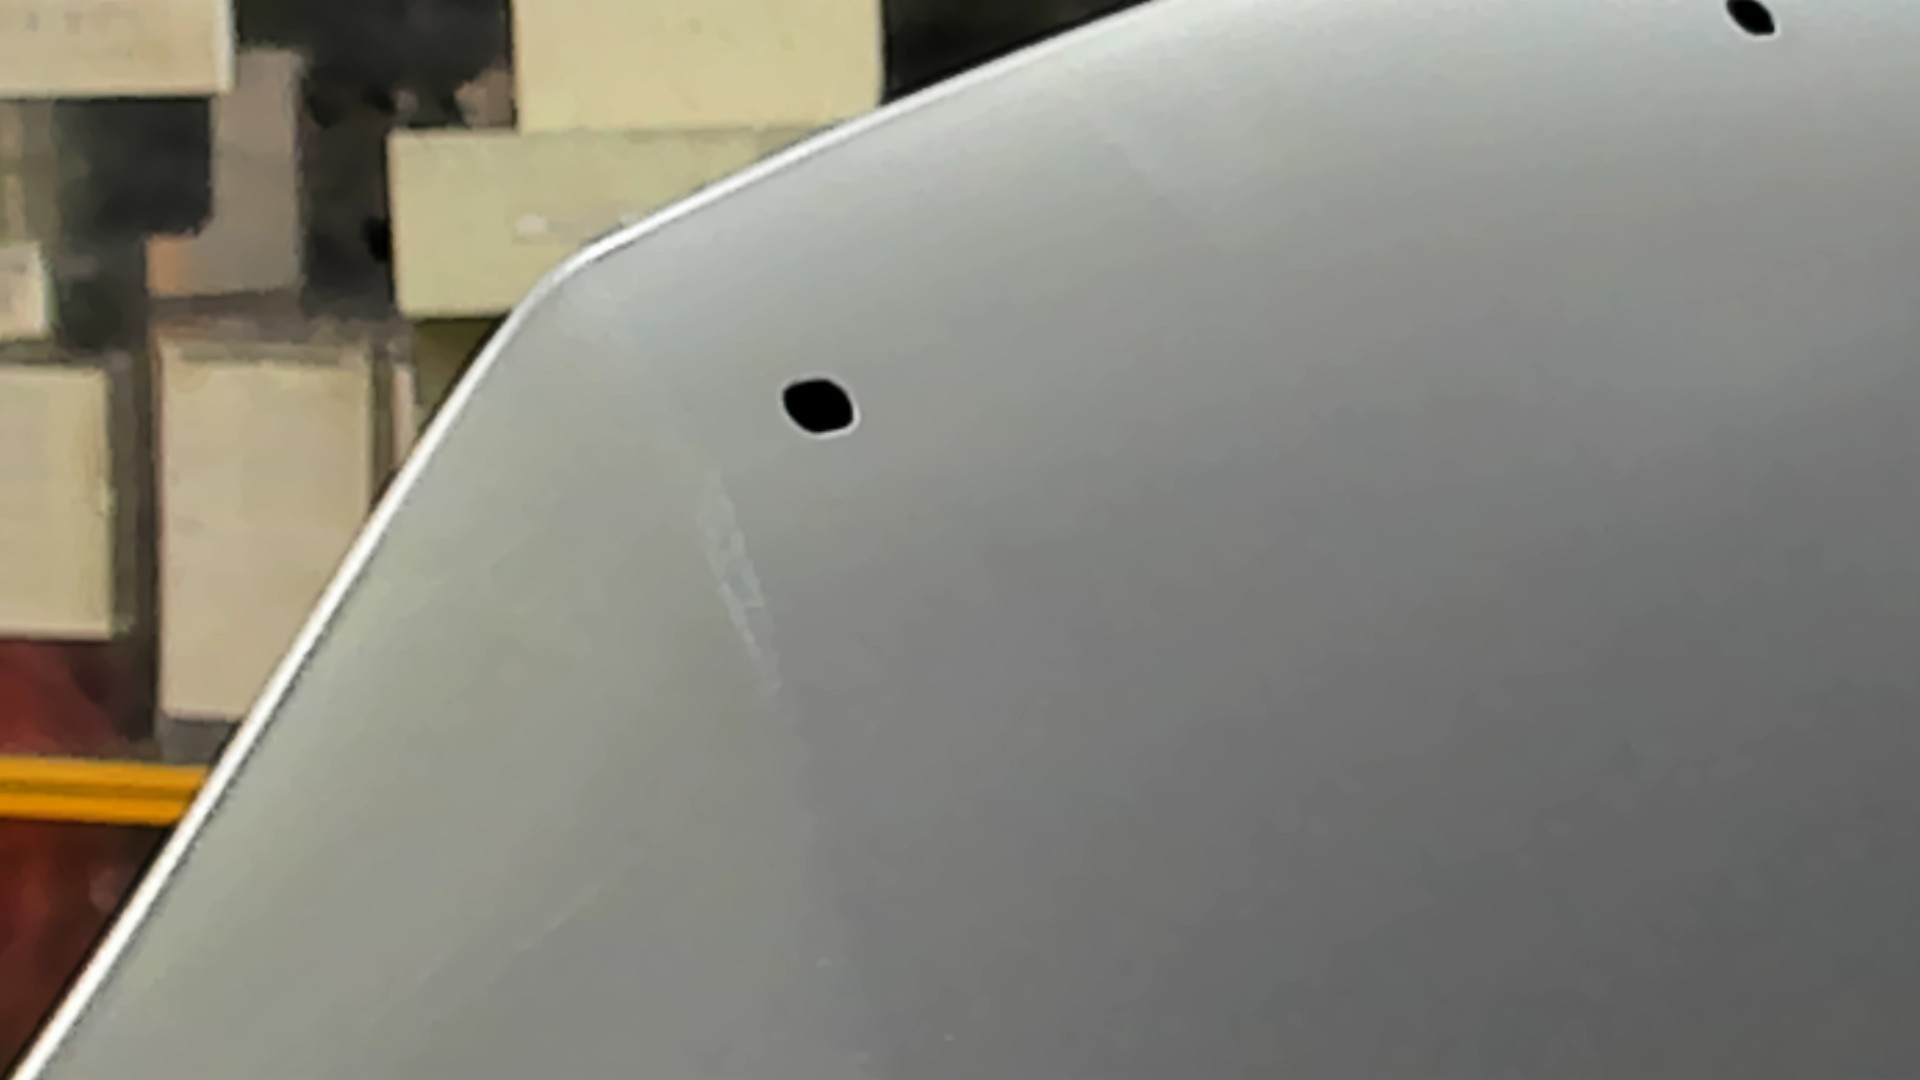amorfo: (774, 369, 864, 442), (1716, 1, 1789, 46)
